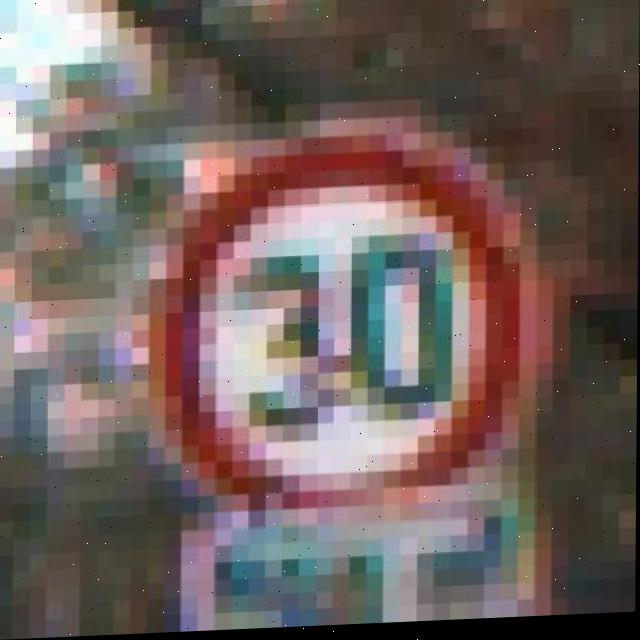Speed limit 30: (148, 103, 545, 631)
